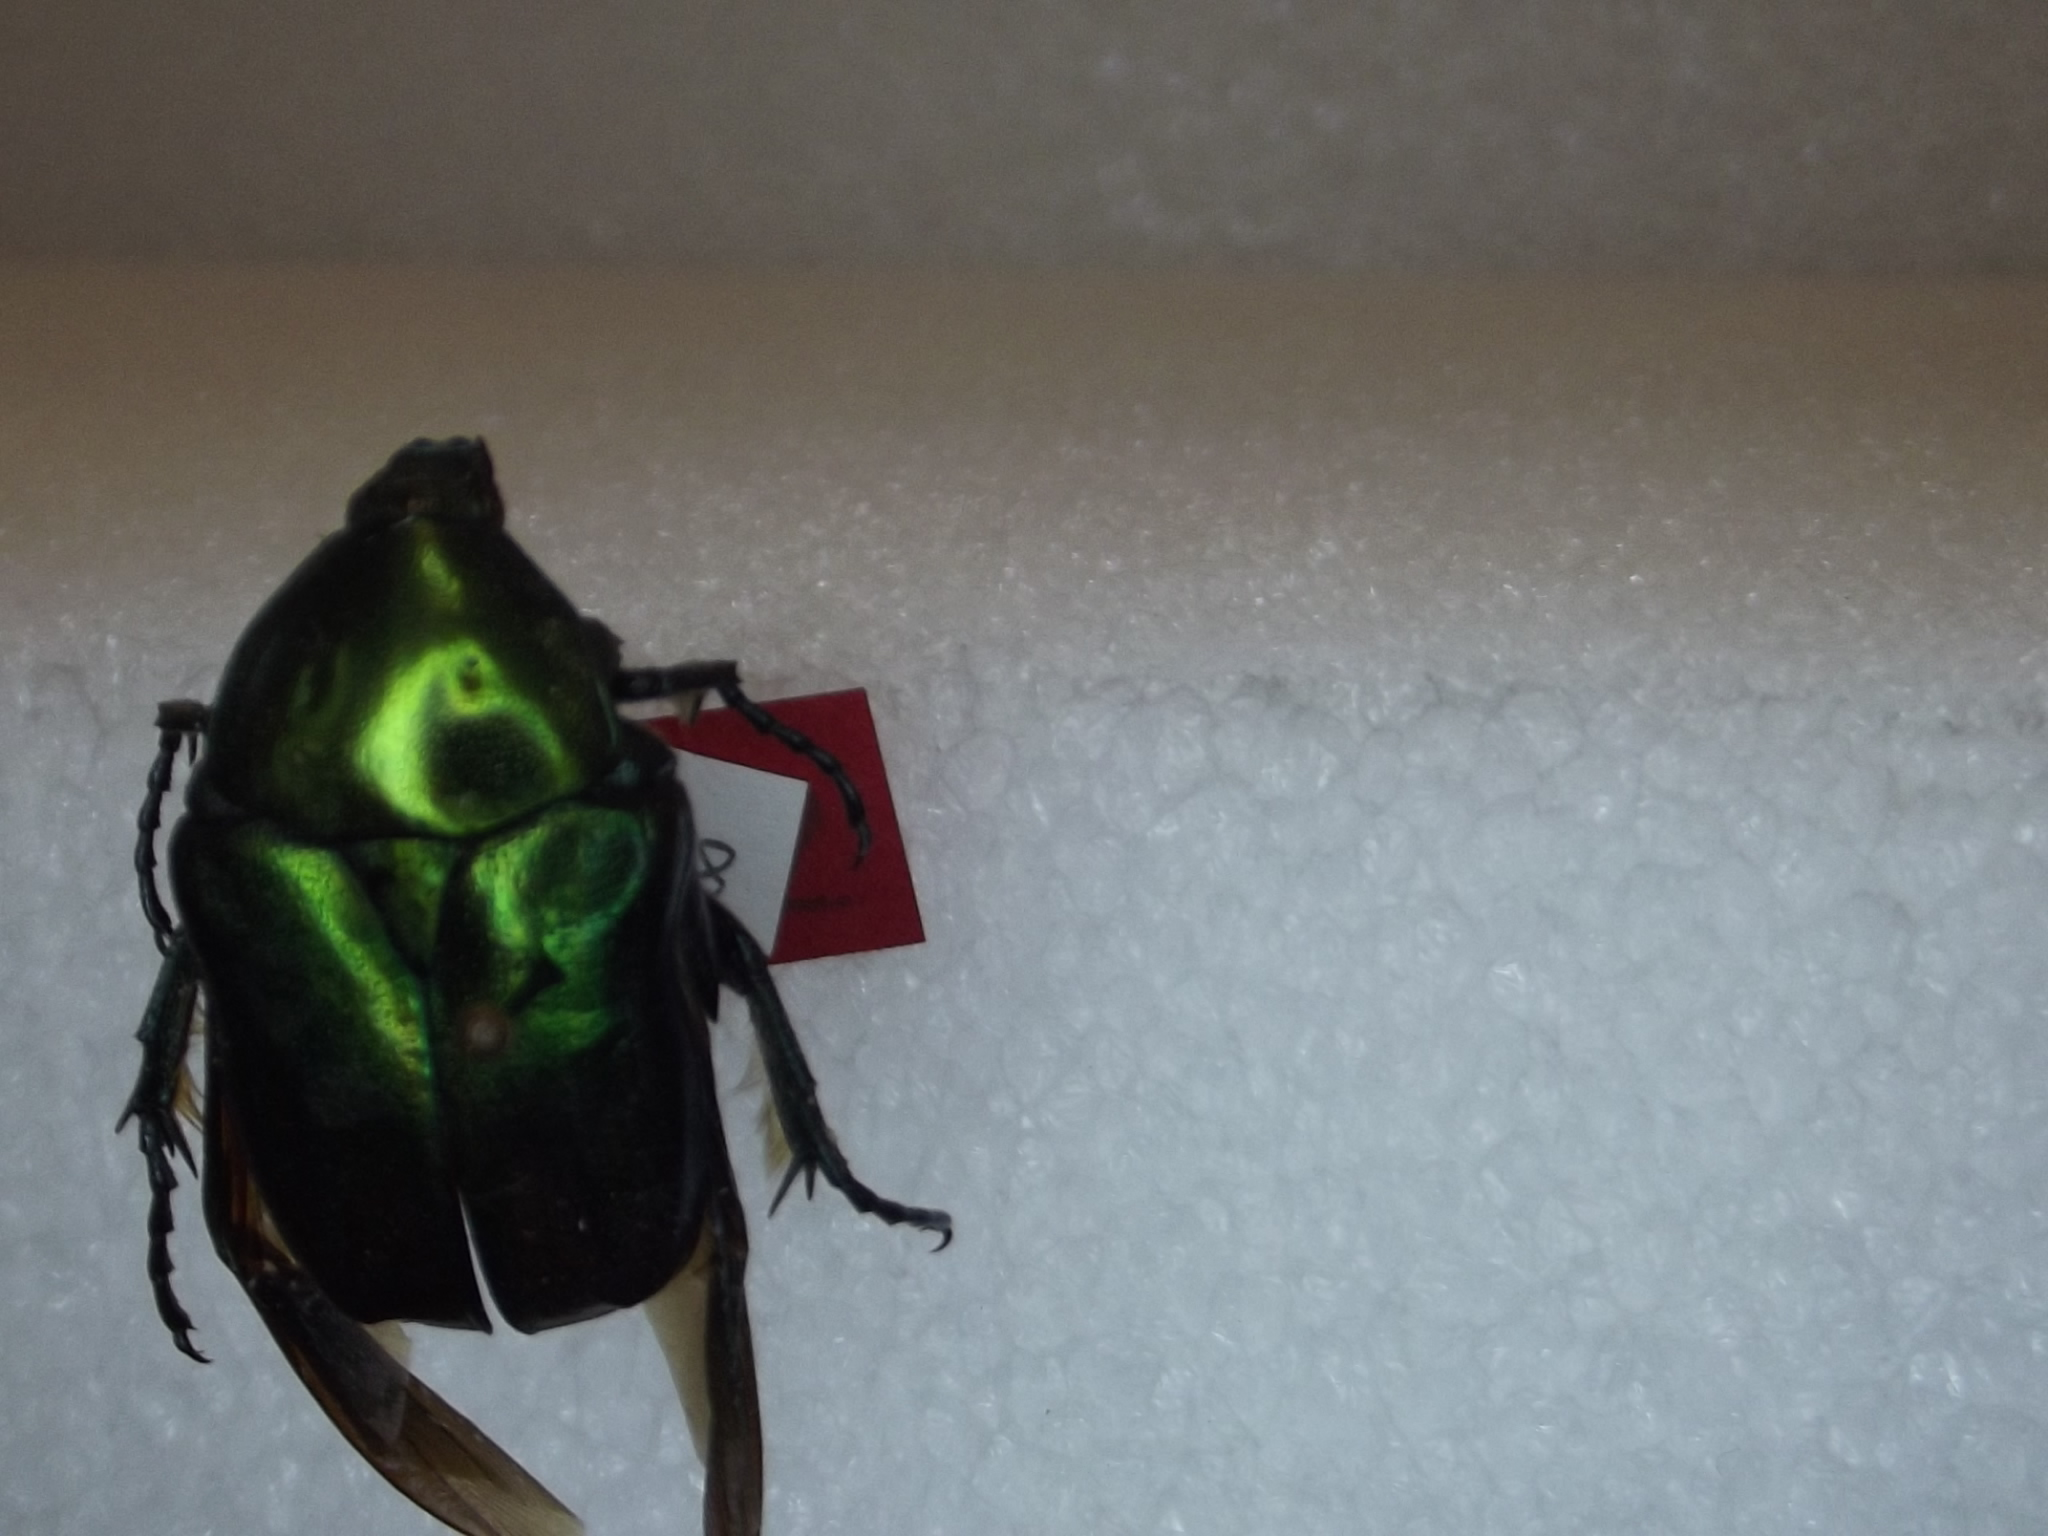Protaetia_besucheti: (73, 407, 966, 1536)
